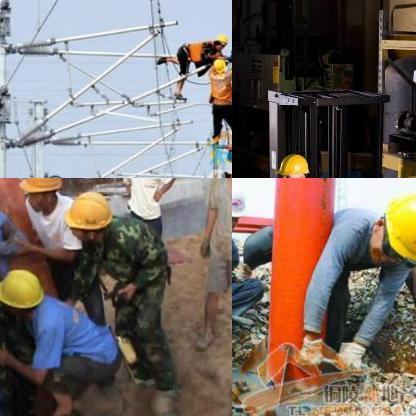Helmet: (372, 180, 415, 266), (61, 187, 111, 243), (0, 266, 47, 316), (18, 178, 64, 213), (272, 151, 306, 177), (232, 178, 247, 232), (210, 54, 226, 76), (208, 32, 230, 48)
